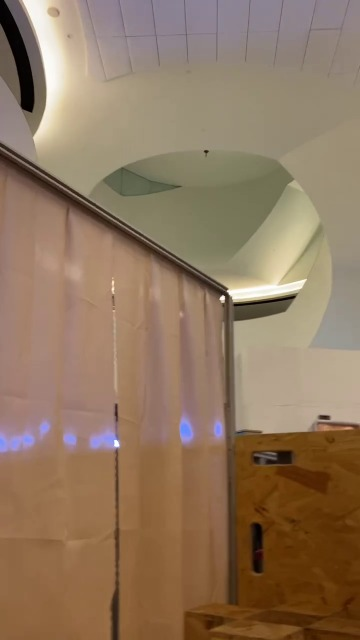curtain: (0, 141, 238, 621)
